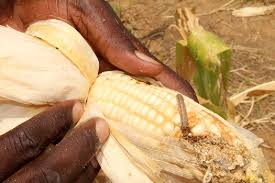Armyworm: (168, 91, 192, 133)
